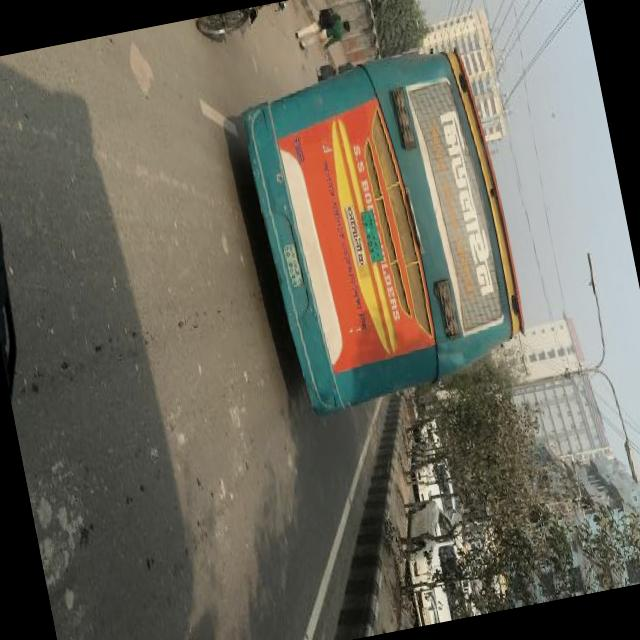bus: (235, 38, 536, 423)
car: (395, 495, 471, 625), (407, 436, 460, 526)
